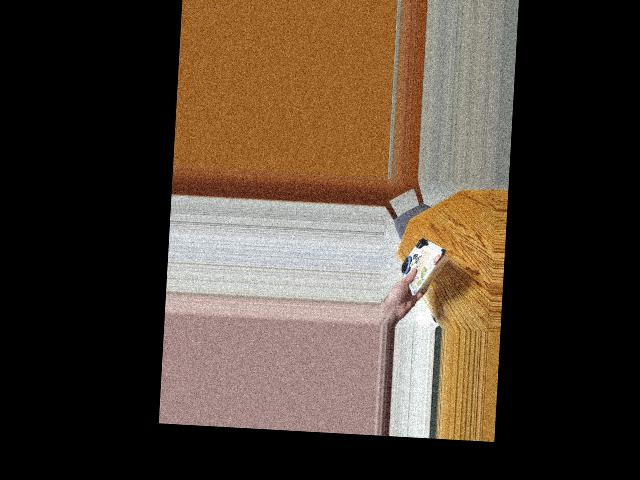cheese: (398, 233, 458, 293)
